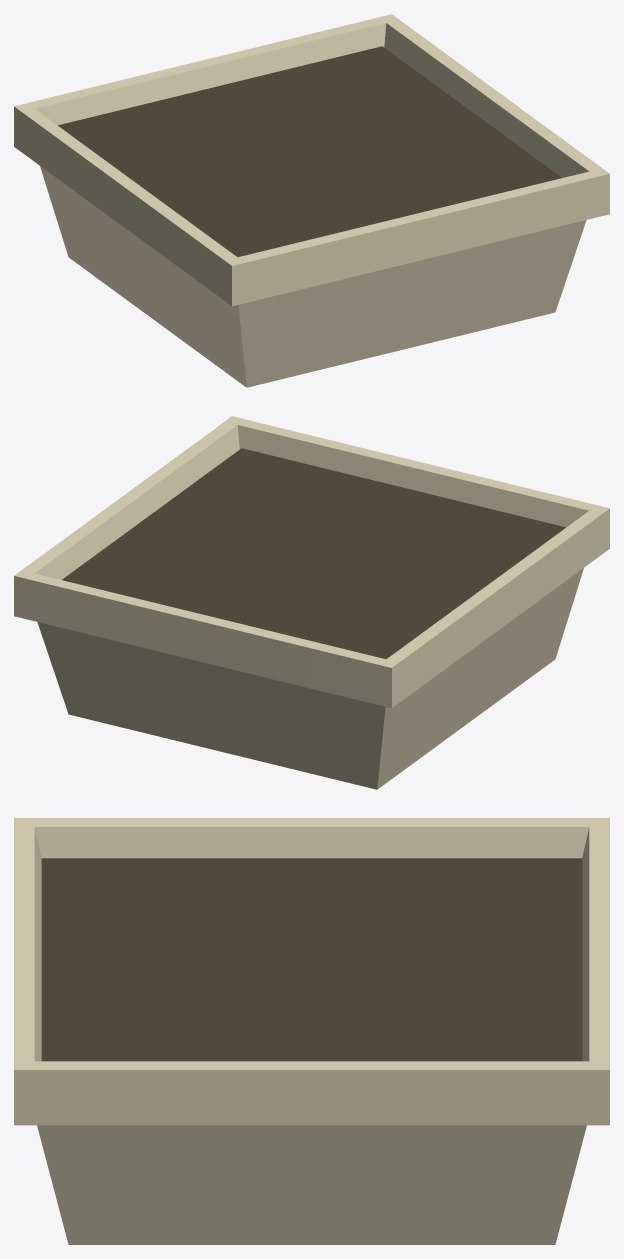
File: plant02_01.gltf
3 renders of one model, top to bottom at view 1: azimuth 30°, elevation 25°; view 2: azimuth 150°, elevation 25°; view 3: azimuth 270°, elevation 25°, orthographic. The views are drawn at different scales.
Parts seen in each view (by area): view 1: pot, dirt; view 2: pot, dirt; view 3: pot, dirt.
Boxes of the visible parts, x1,y1,x2,y2 form: pot: (14,14,609,387); dirt: (58,46,561,257); pot: (14,416,609,789); dirt: (62,448,565,659); pot: (14,818,609,1244); dirt: (41,858,582,1061).
Size of the model in its own units: 0.0188 by 0.00687 by 0.0188.
1 material, 1 textured.
